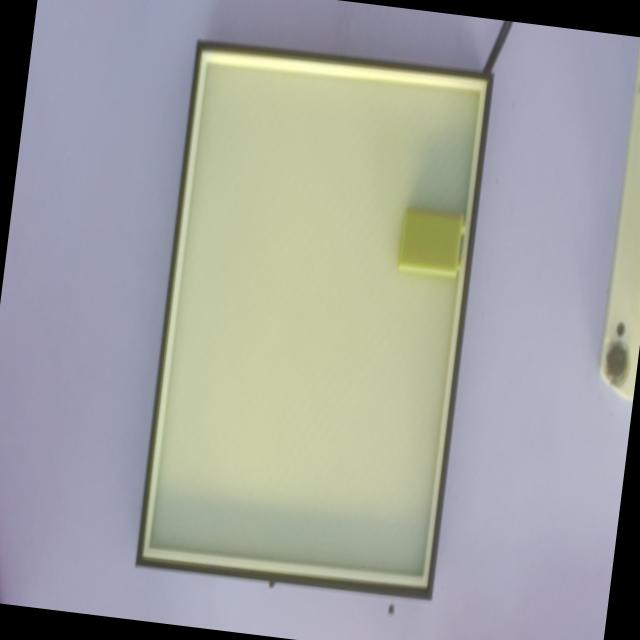bateria: (398, 205, 469, 277)
mesa: (134, 39, 493, 600)
